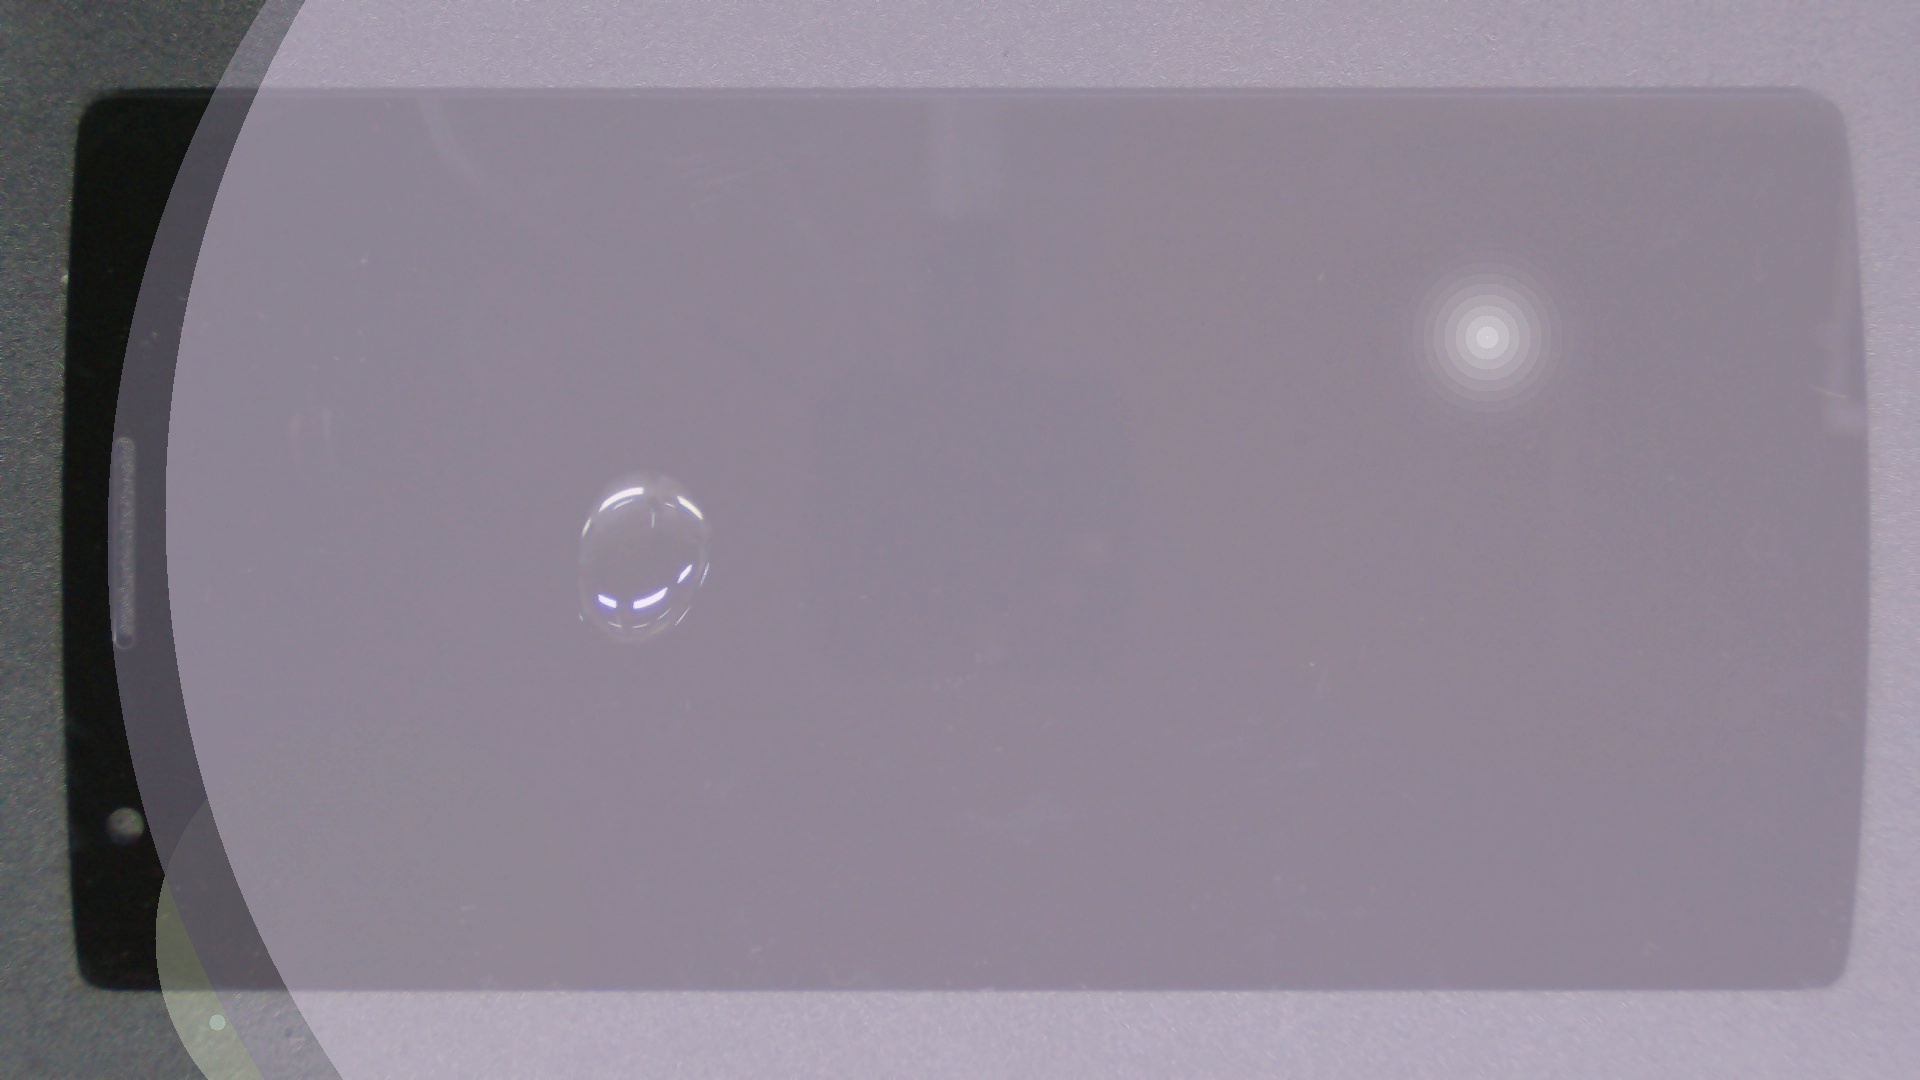oil: (323, 236, 968, 708)
